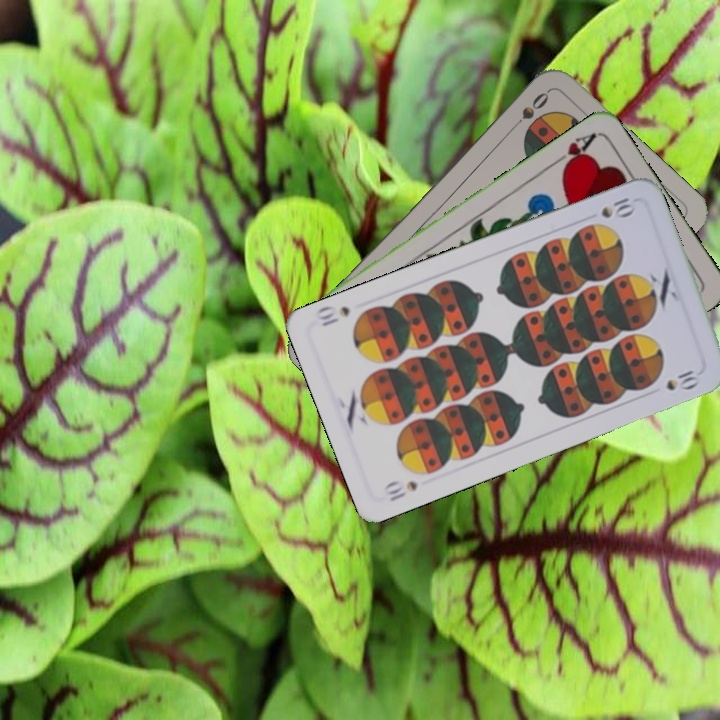HA: (546, 129, 598, 175)
S10: (597, 193, 638, 221), (379, 476, 420, 504)
SO: (506, 87, 551, 134)
